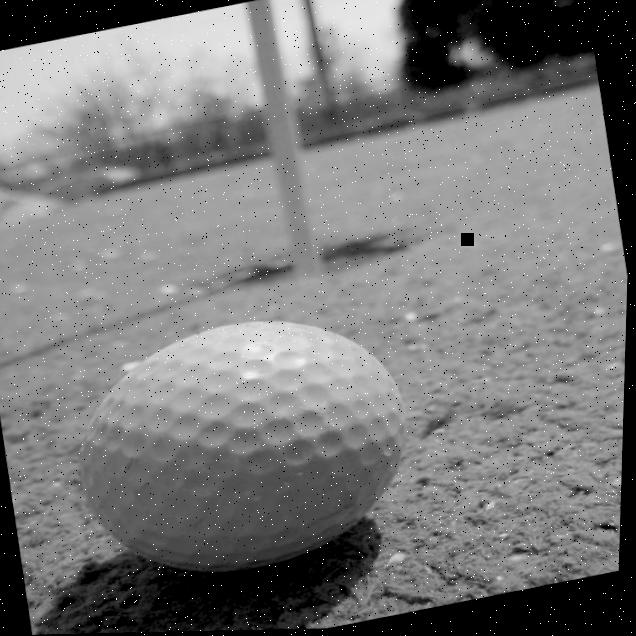GolfBall: (26, 279, 463, 630)
